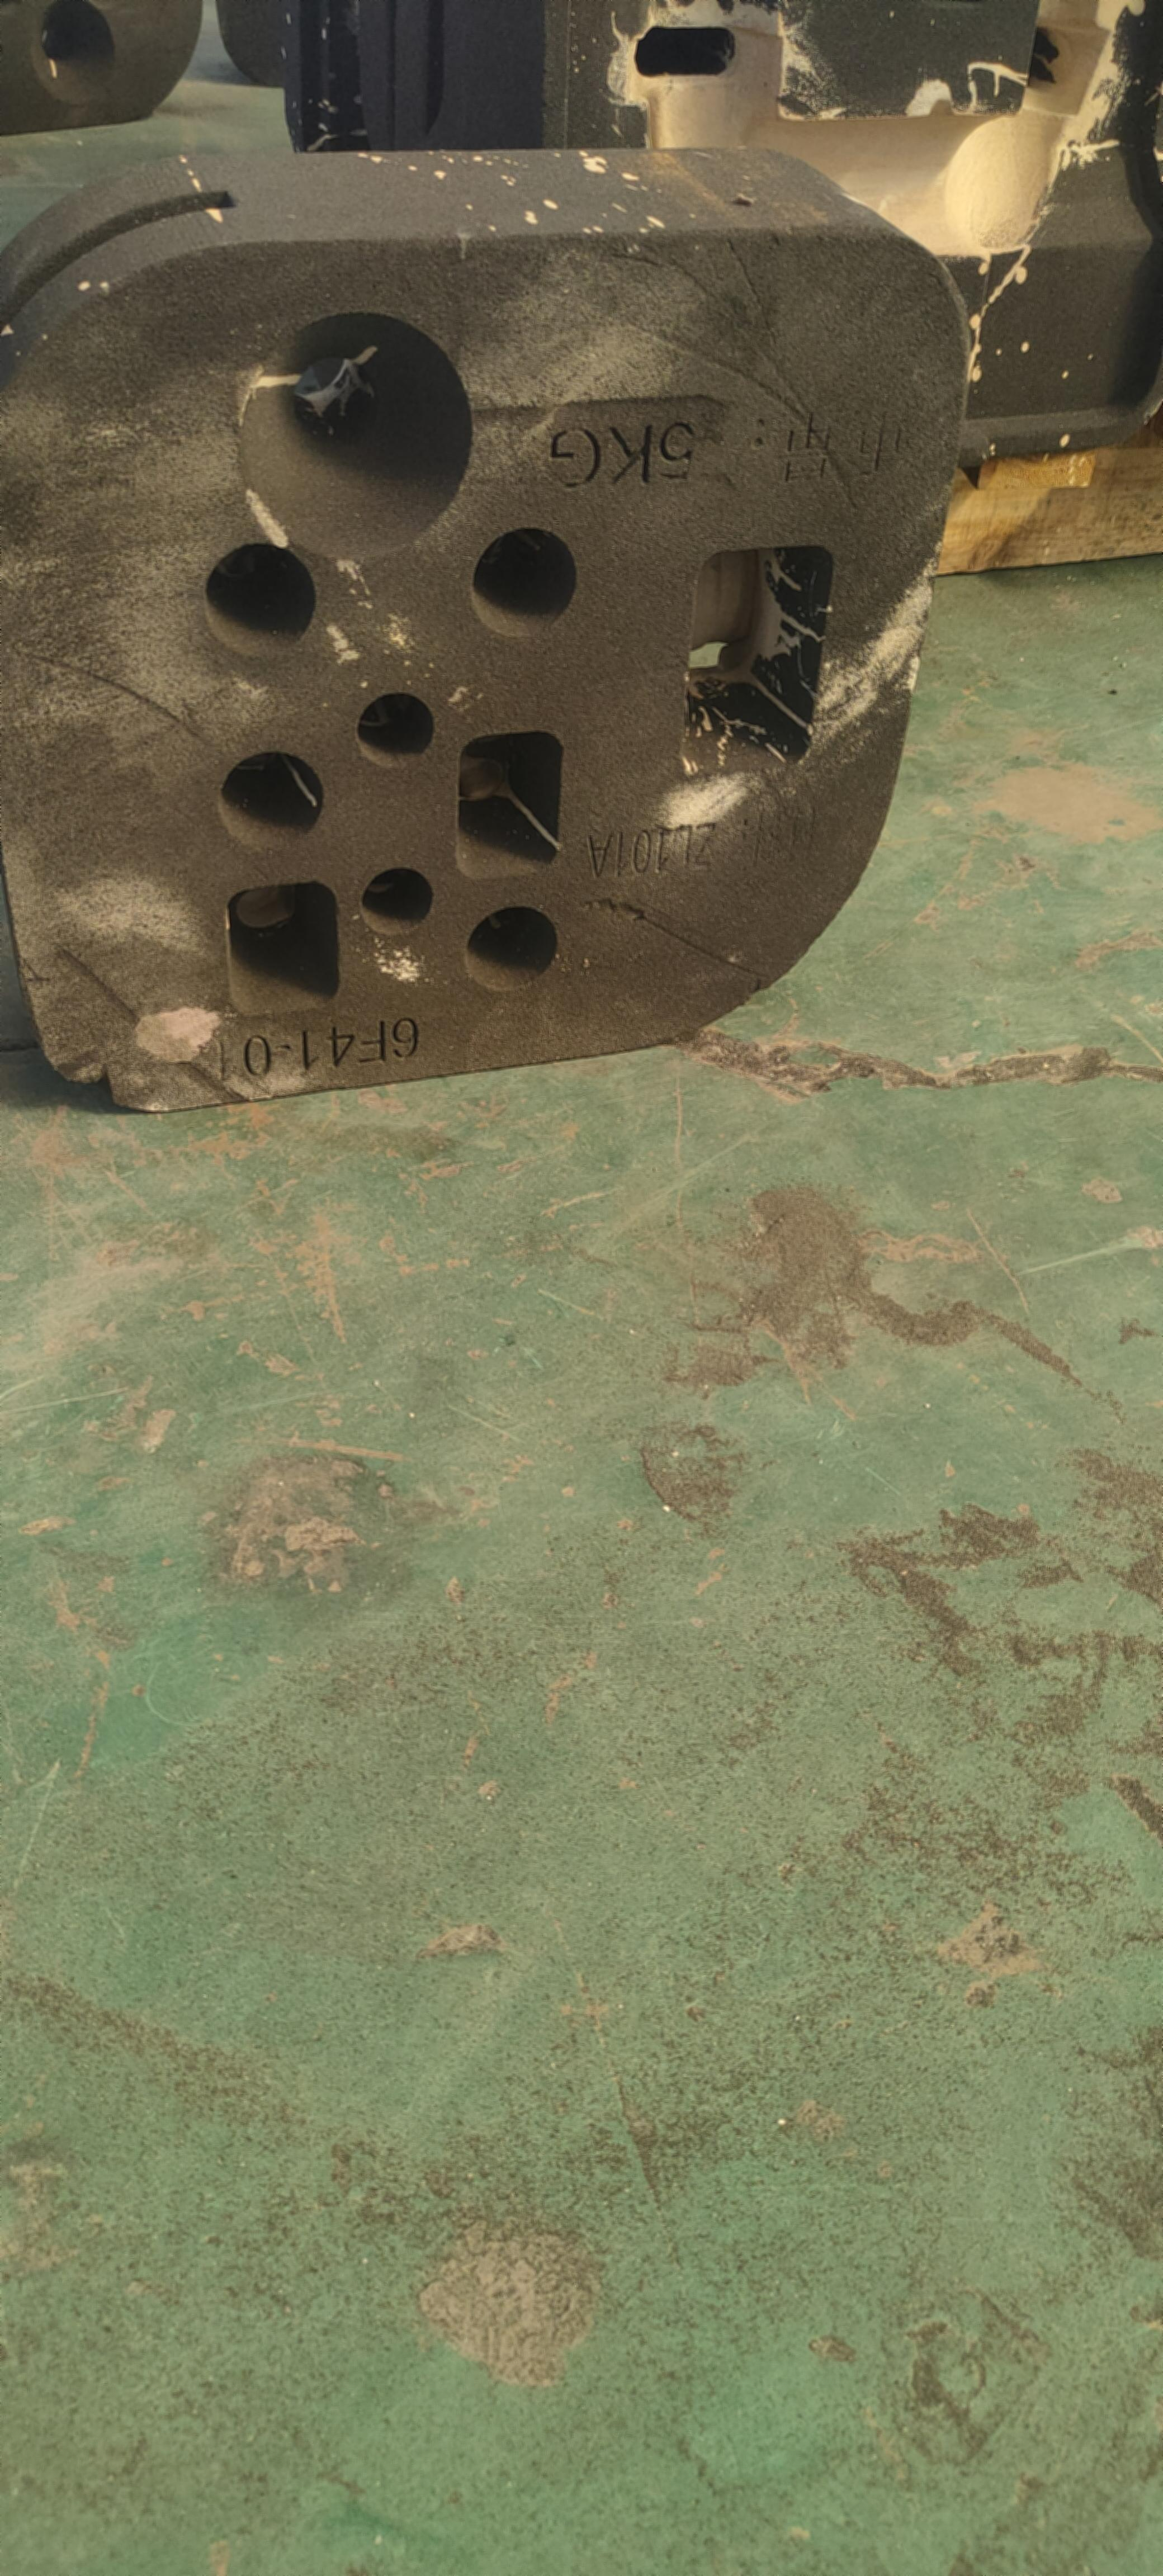pouring hole: (238, 314, 471, 557), (28, 0, 112, 100)
